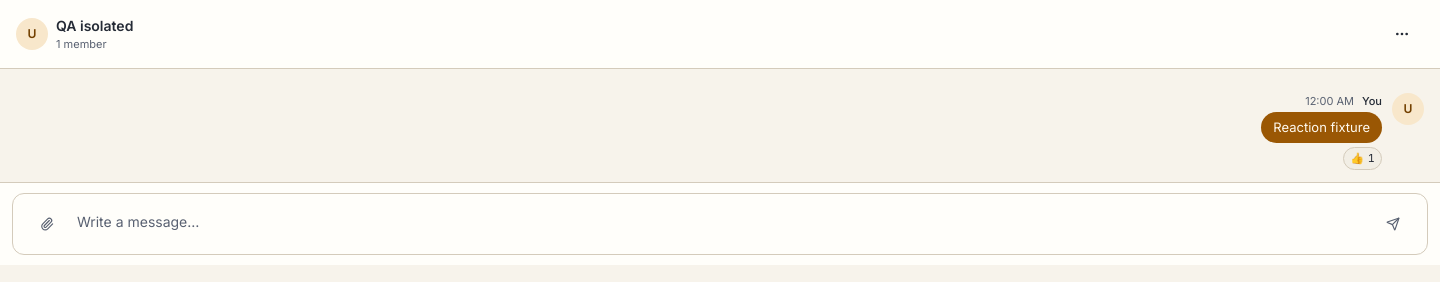
Test: does not let an older reaction response undo a second toggle
Check: the text "Reaction fixture" is shown, box [1261,112,1382,143]
Click the button "👍 1".
click(1363, 158)  # box [1343,147,1382,170]
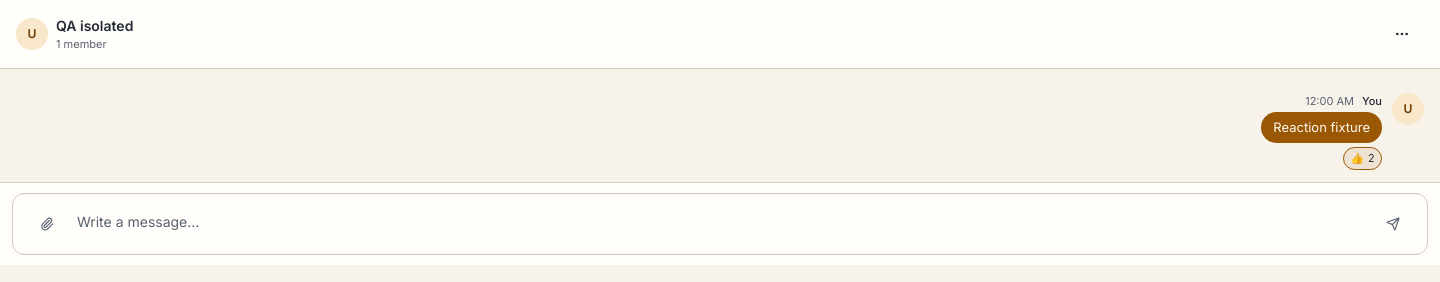
Click the button "👍 2".
click(1363, 158)  # box [1343,147,1382,170]
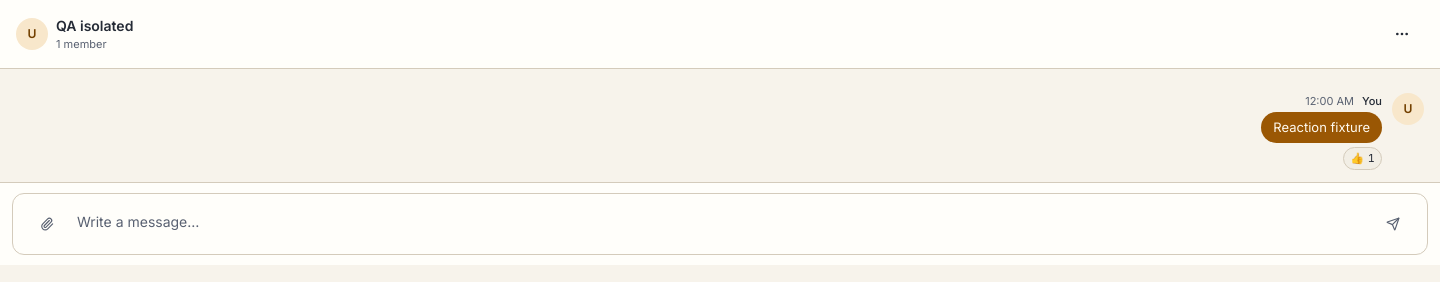
Check: the button "👍 1" is shown, box [1343,147,1382,170]
